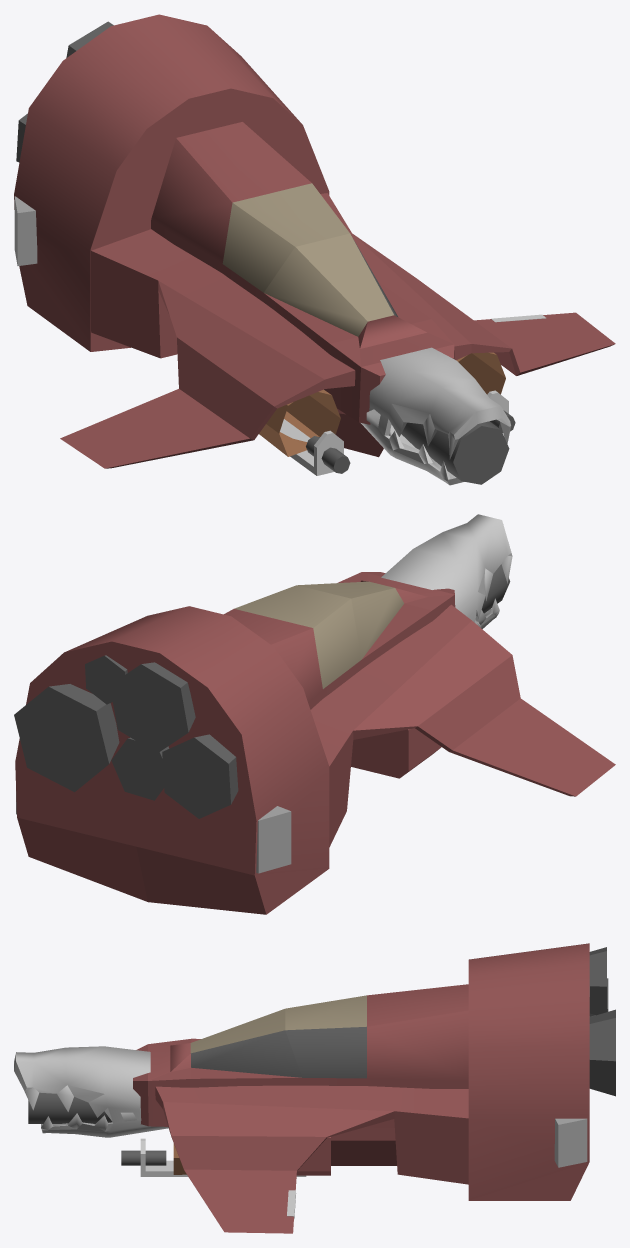
The model's file is H_Assault_LOD.fbx.
3 views of the same model, one above another, from view 1: azimuth 30°, elevation 25°; view 2: azimuth 150°, elevation 25°; view 3: azimuth 270°, elevation 25° (orthographic). The views are drawn at different scales.
Visible parts, largest first — view 1: polySurface64; view 2: polySurface64; view 3: polySurface64.
Part boxes in pixels (x1,y1,x2,y2): polySurface64: (14, 14, 615, 485); polySurface64: (14, 514, 615, 914); polySurface64: (14, 943, 615, 1233).
Size of the model in its own units: 21.33 by 10.43 by 26.63.
